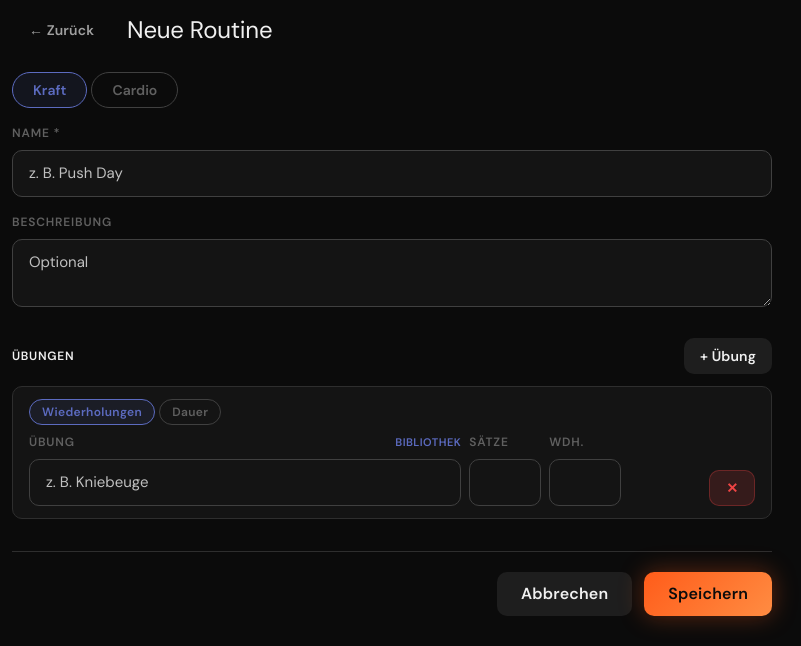
Test: RoutineForm – Cardio › zeigt Validierungsfehler bei fehlendem durationMinutes
Click the button "Cardio".
click(135, 90)  # box left=91, top=72, right=178, bottom=108
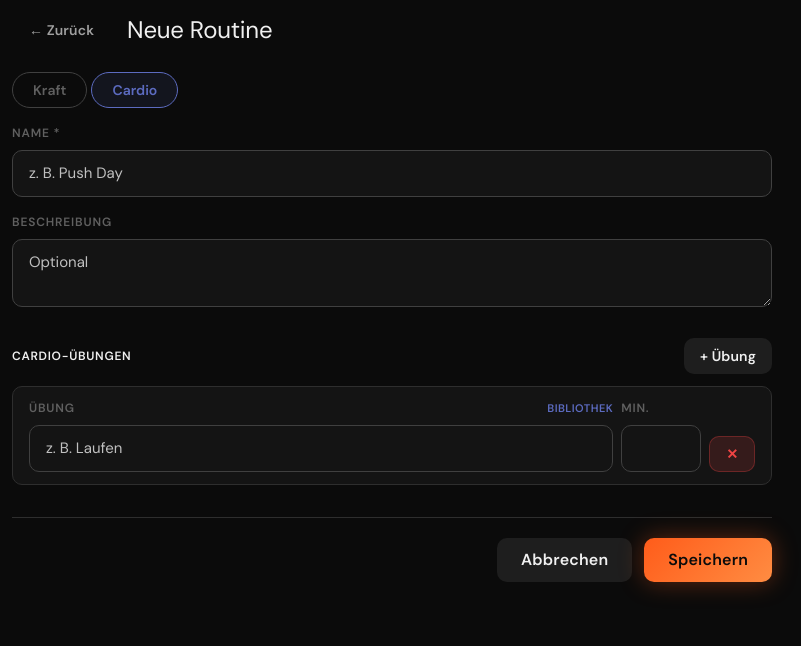
Type "Cardio" into the field labelled "Name *".
click(392, 174); type("Cardio")  # box left=12, top=150, right=772, bottom=197
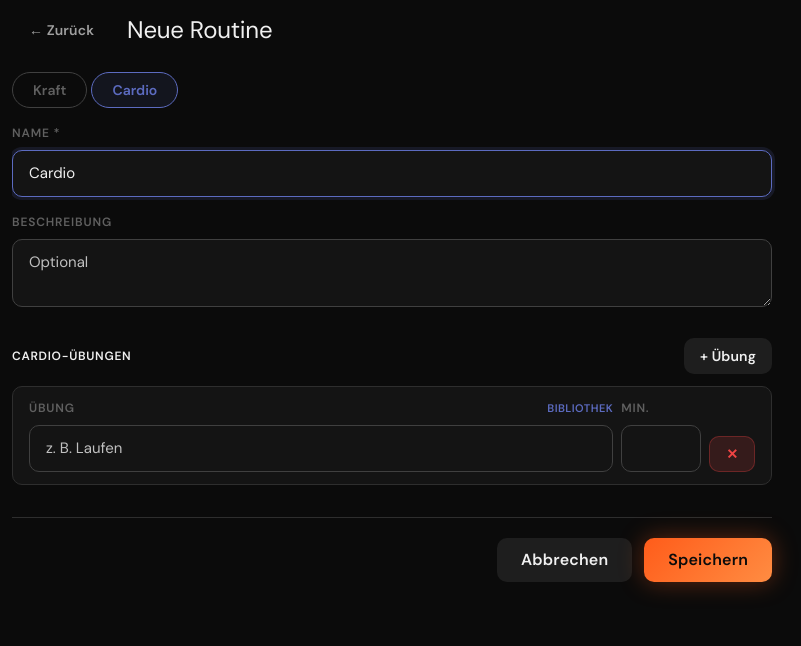
Type "Laufen" into the field with placeholder "z. B. Laufen".
click(321, 448); type("Laufen")  # box left=29, top=425, right=613, bottom=472
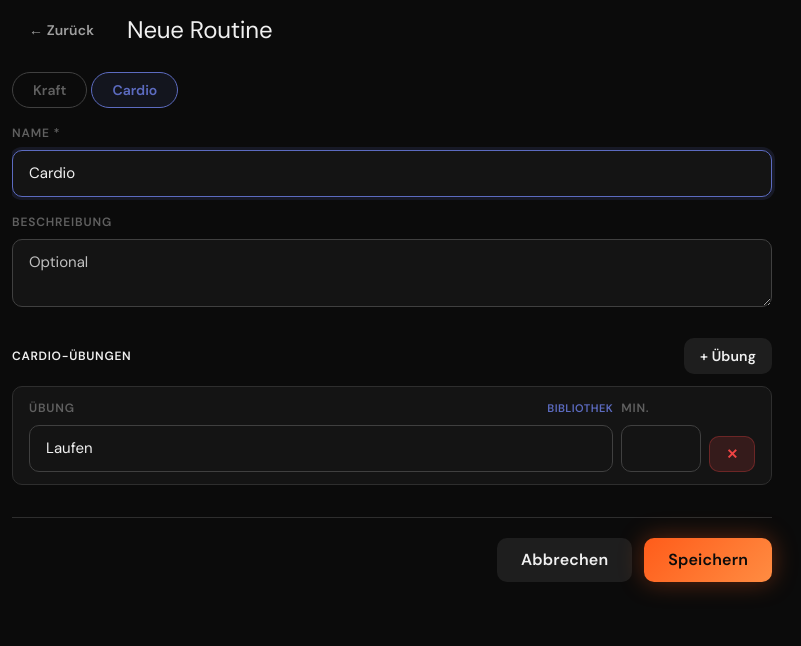
Click the button "Speichern".
click(708, 560)  # box left=644, top=538, right=772, bottom=582
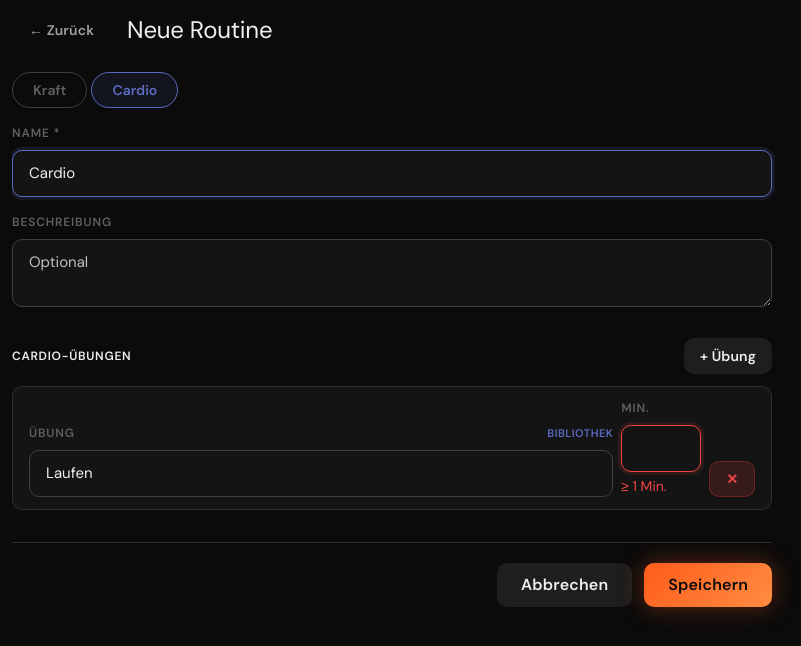
Check: the text "≥ 1 Min." is shown, box left=621, top=477, right=667, bottom=495
